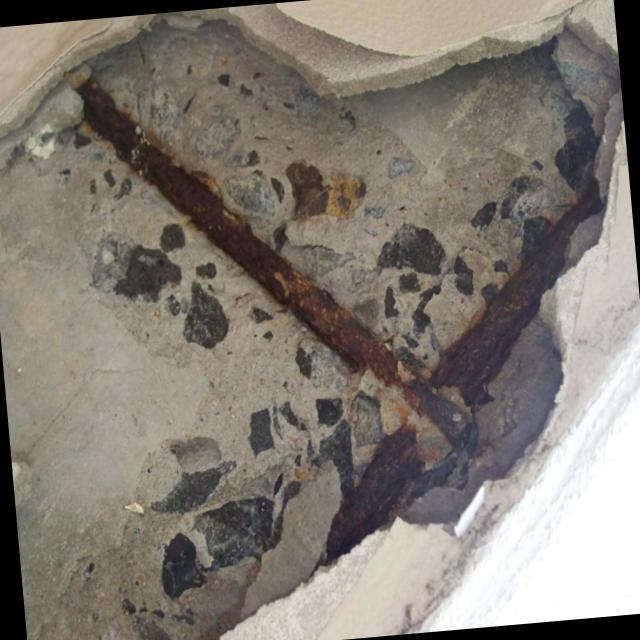spalling: (0, 0, 623, 640)
